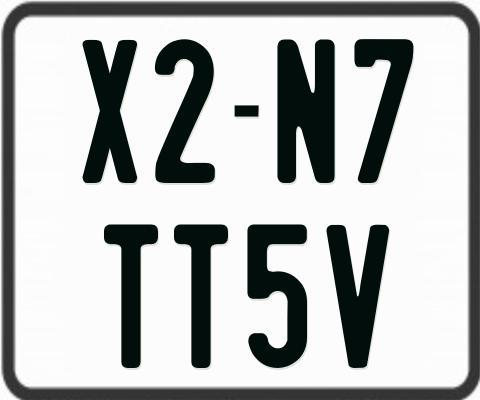2: (154, 36, 217, 181)
5: (247, 223, 309, 366)
7: (352, 37, 413, 185)
N: (275, 39, 339, 185)
T: (172, 224, 232, 367), (102, 222, 158, 370)
V: (325, 222, 392, 369)
X: (81, 38, 136, 185)
